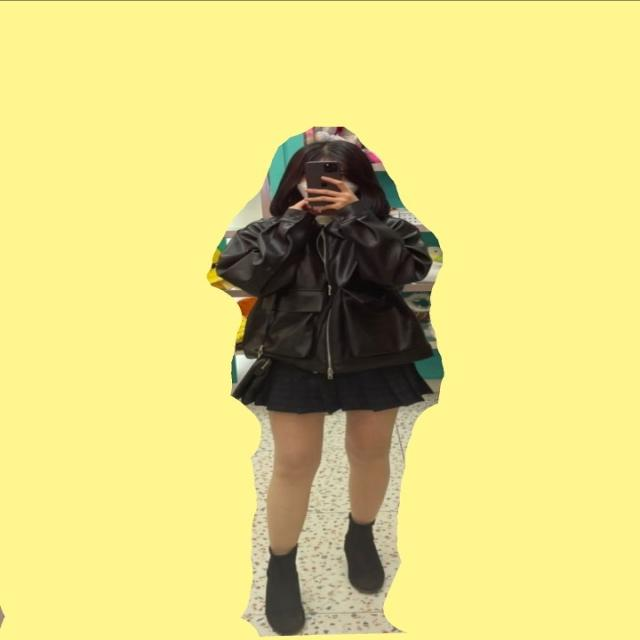jacket: (212, 207, 435, 370)
skirt: (228, 357, 430, 412)
